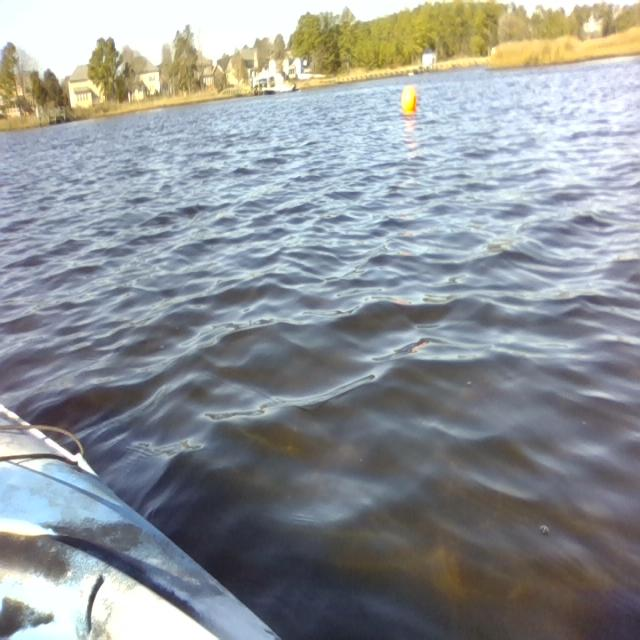Buoy: (395, 80, 423, 122)
